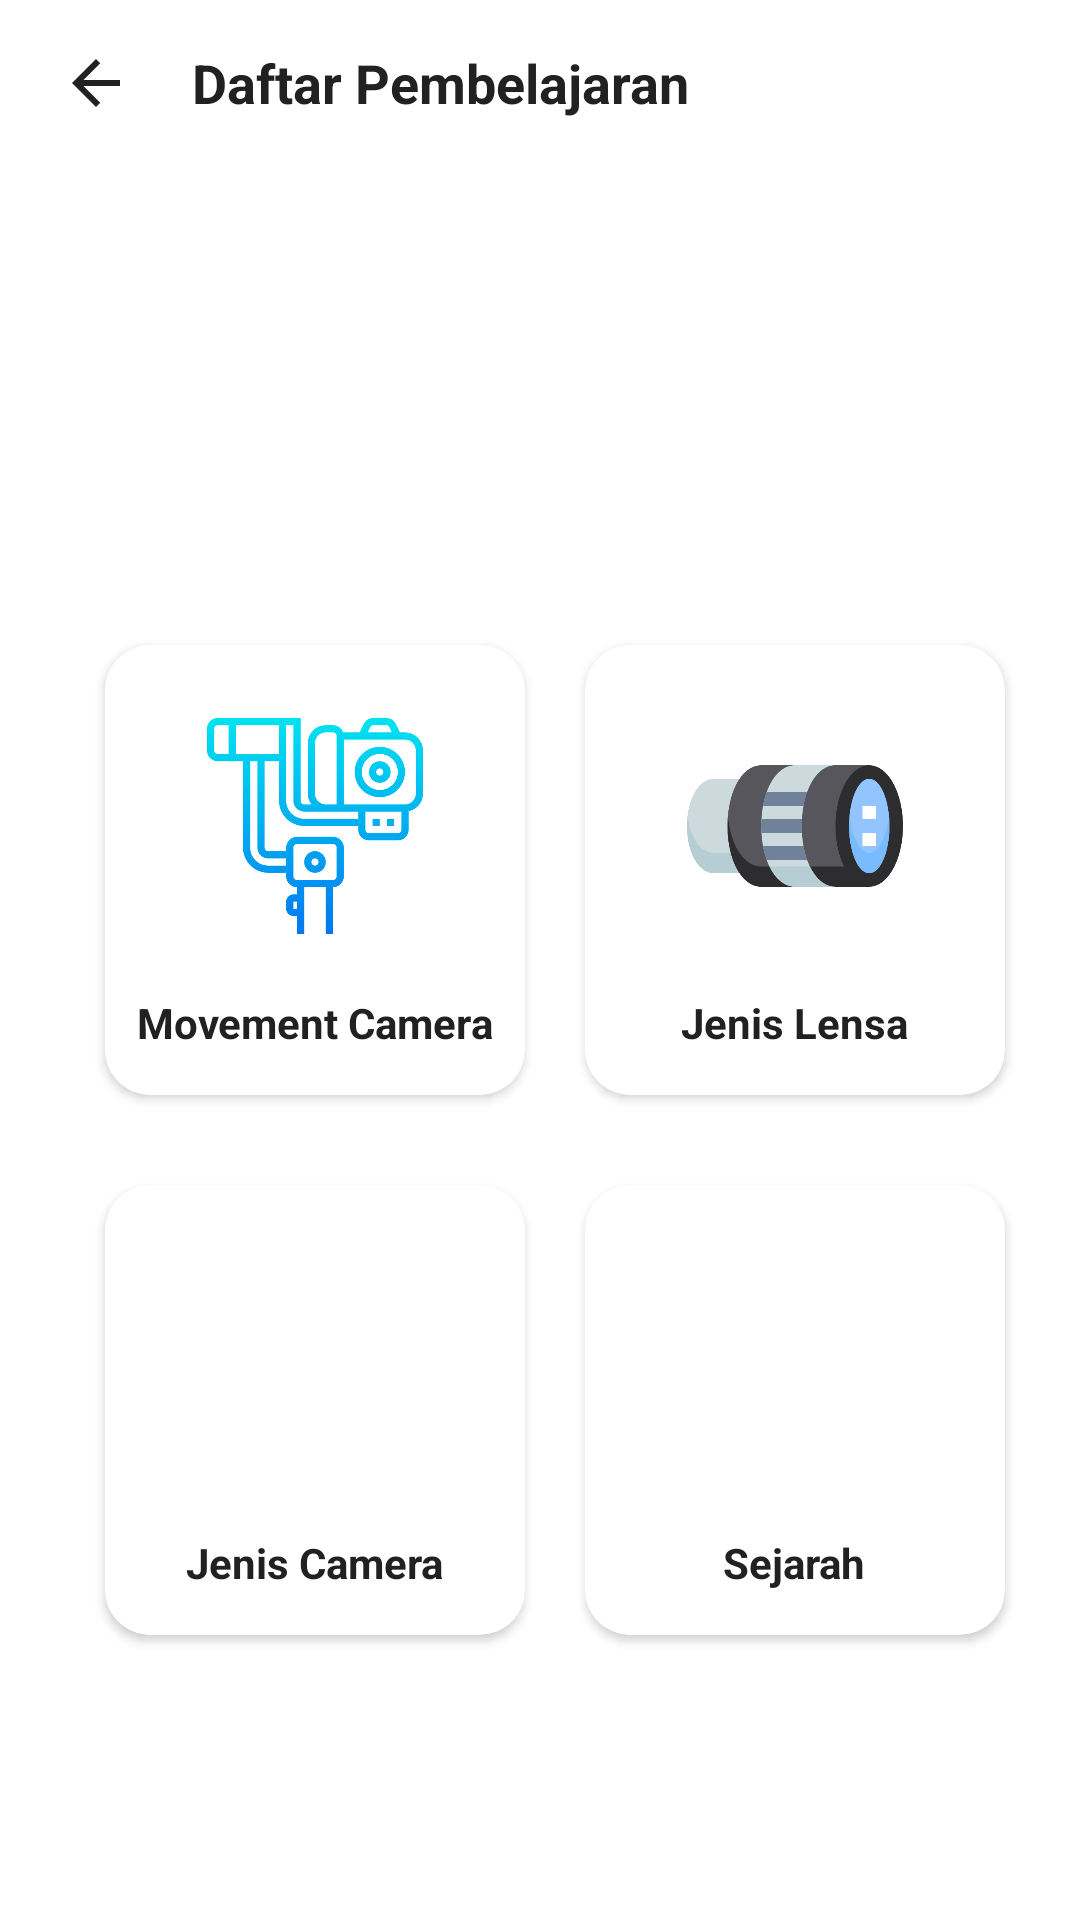

Where icons sit on this 1080w x 1920h app screen, as (x1, y1, x2, y2):
arrow back: (72, 59, 120, 107)
lensa camera: (687, 765, 903, 887)
